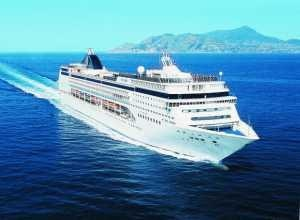youlun: (53, 43, 262, 161)
